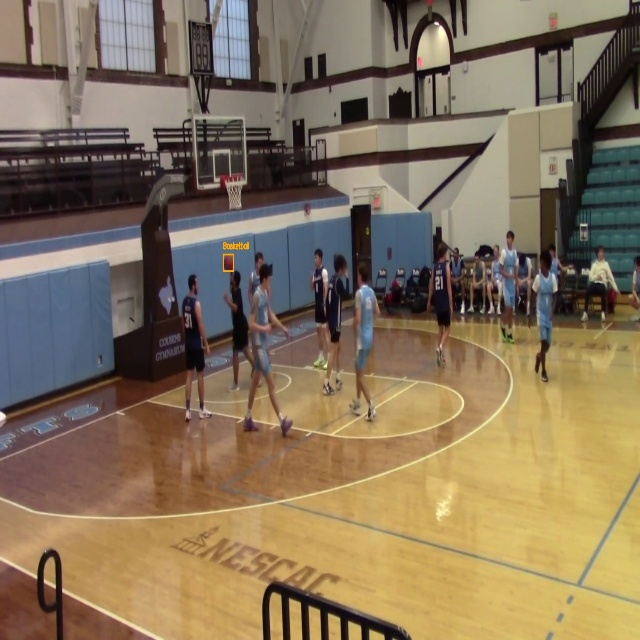Basketball: (223, 255, 234, 271)
